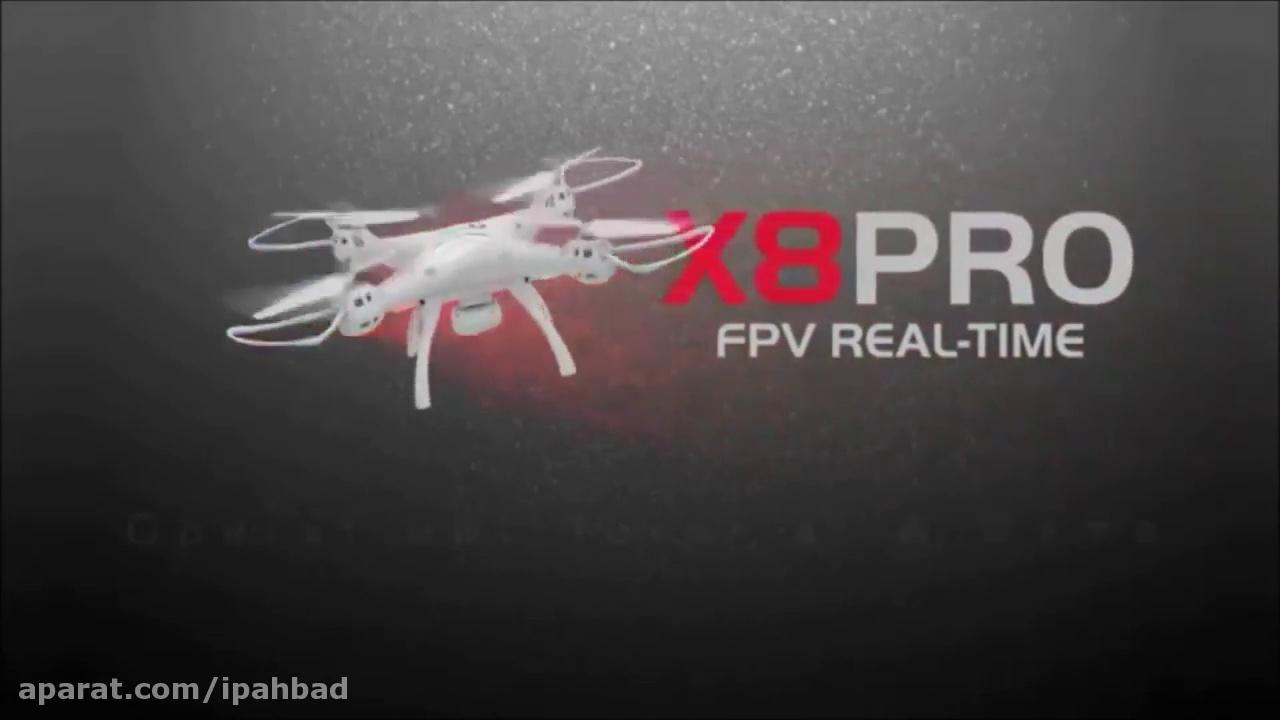drone: (223, 143, 714, 415)
